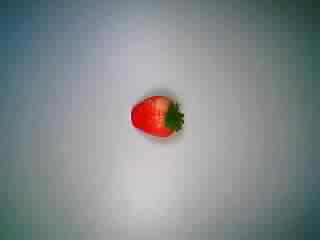strawberry: (120, 81, 188, 145)
